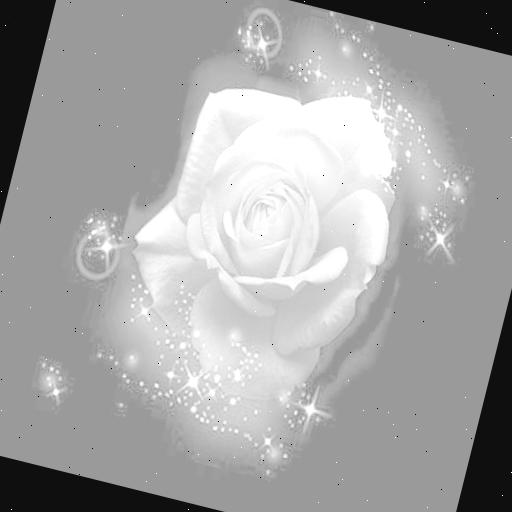rose: (107, 55, 418, 426)
